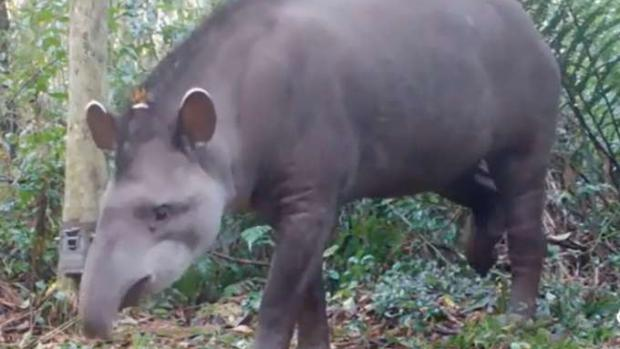Anta: (75, 6, 571, 346)
